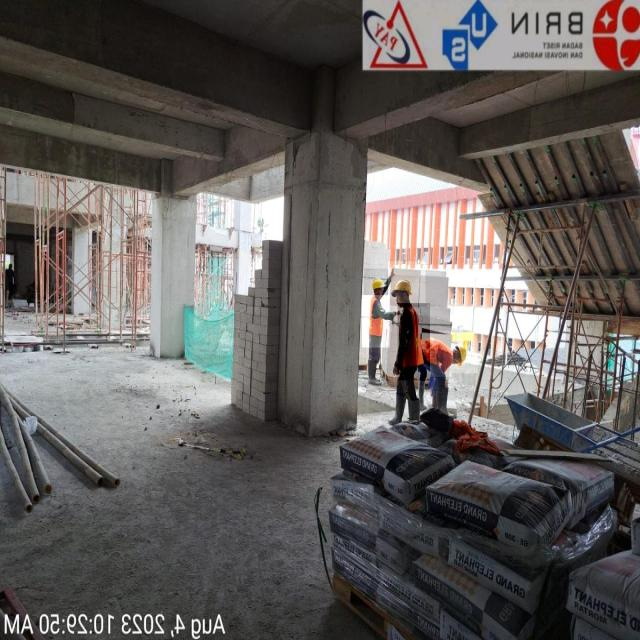Helmet: (388, 261, 426, 320), (450, 332, 478, 373), (364, 268, 392, 300)
Safety Vest: (398, 303, 430, 381), (362, 295, 390, 348), (422, 331, 452, 377)
